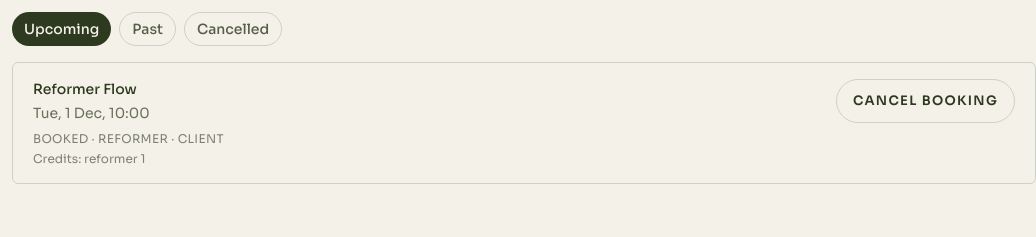
it: BookingsTab › shows cancel failures explicitly
The width and height of the screenshot is (1036, 237).
Step 1. Click the button "Cancel booking" → (925, 101), box [836,79,1015,123]
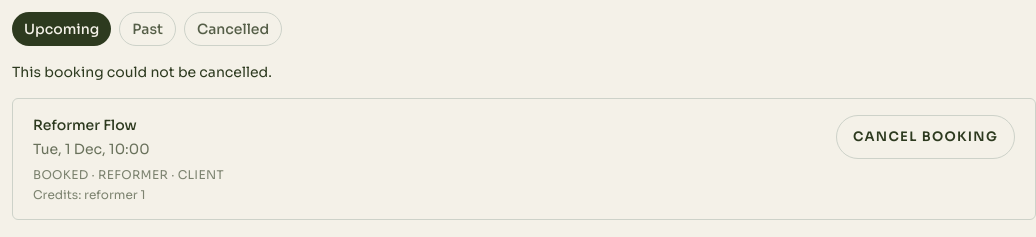
Now the text "This booking could not be cancelled." is shown, box [12,63,272,81]
